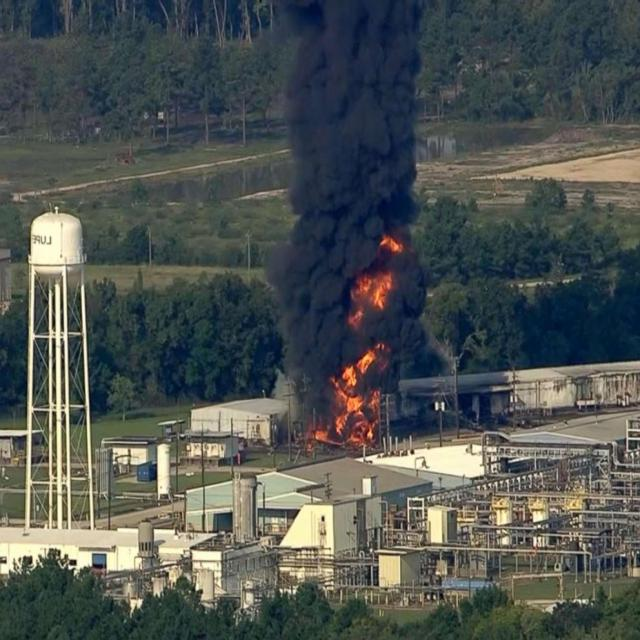fire: (308, 234, 406, 454)
